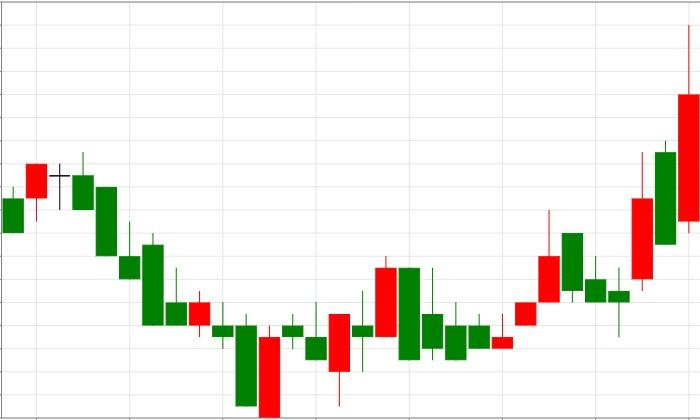inverse_hammer_rise: (49, 152, 187, 326)
three_white_soldiers_rise: (399, 209, 559, 361)
